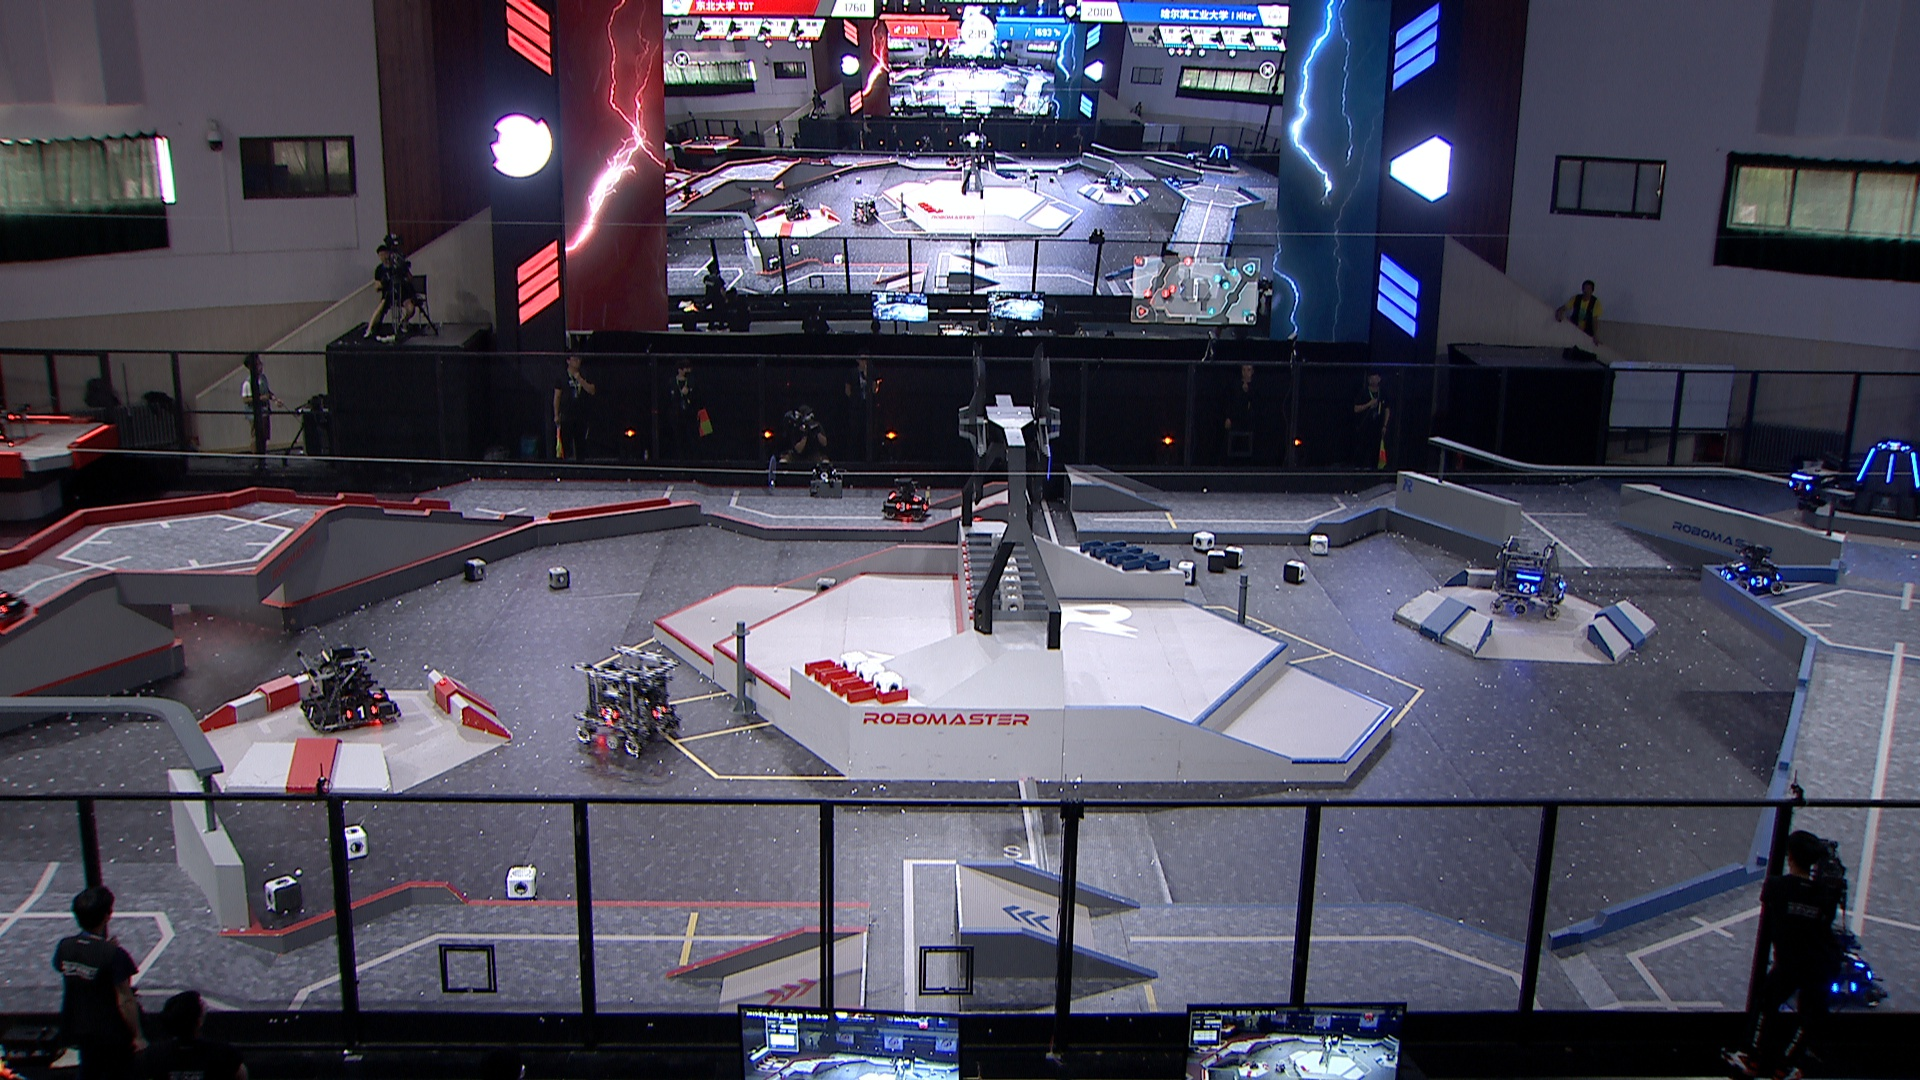armor: (1854, 442, 1878, 484), (343, 702, 380, 721), (1840, 943, 1866, 969), (1905, 450, 1920, 489), (1830, 977, 1859, 997), (1883, 448, 1898, 484), (1788, 475, 1813, 493), (597, 705, 618, 723), (1880, 440, 1907, 454), (651, 702, 669, 721), (1518, 580, 1538, 597), (1749, 571, 1768, 588), (302, 700, 316, 723), (1716, 566, 1733, 583), (1727, 559, 1749, 572), (367, 684, 384, 700), (894, 498, 911, 514), (1555, 576, 1569, 593), (911, 489, 926, 504)
base: (1836, 436, 1920, 524)
car: (572, 644, 684, 760), (297, 642, 405, 735), (1788, 927, 1892, 1011), (1489, 531, 1571, 618), (1709, 543, 1788, 603), (878, 475, 935, 527)
ignore: (851, 191, 884, 225), (782, 196, 814, 222), (1201, 142, 1233, 167), (1100, 167, 1126, 191), (679, 185, 702, 210), (1166, 171, 1187, 195)
watcher: (1783, 462, 1841, 520)
